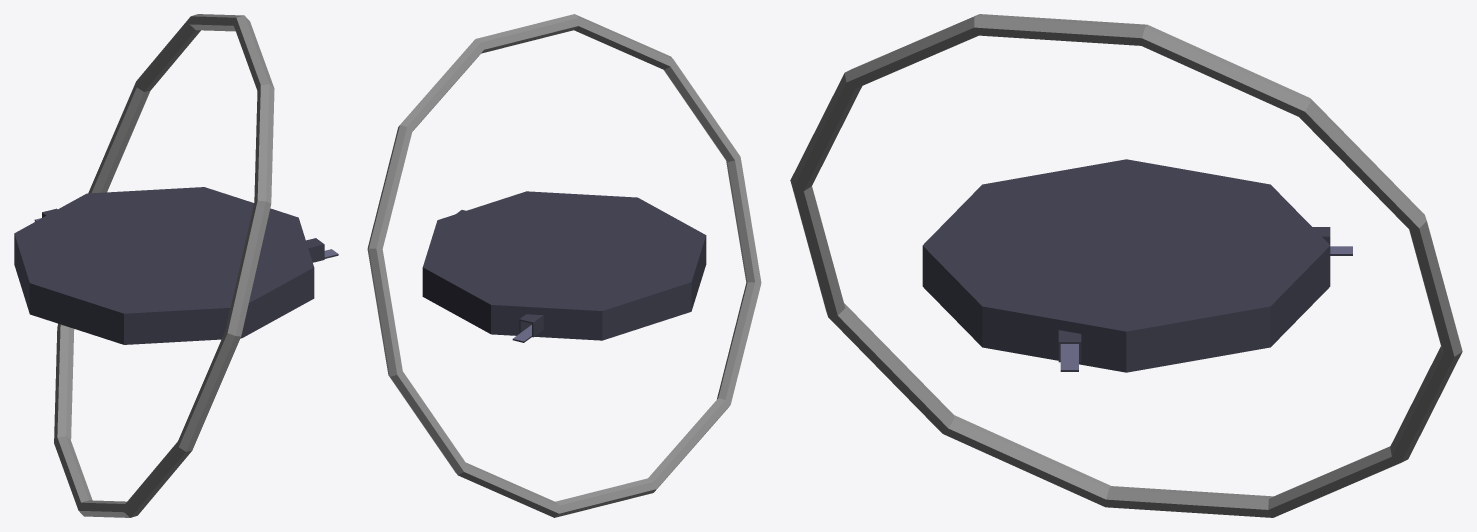
Rendered from SpaceStationV1_MergeV2.fbx.
3 renders of one model, left to right at view 1: azimuth 30°, elevation 25°; view 2: azimuth 150°, elevation 25°; view 3: azimuth 270°, elevation 25°, orthographic. The views are drawn at different scales.
Visible parts, largest first — view 1: Base, Circle, Inside; view 2: Base, Circle, Inside; view 3: Base, Circle, Inside.
Part boxes in pixels (box(x1,y1,x2,y2)): Base: box(14, 187, 314, 344); Circle: box(54, 14, 274, 517); Inside: box(34, 208, 338, 262); Base: box(422, 191, 706, 340); Circle: box(367, 14, 761, 517); Inside: box(456, 210, 543, 342); Base: box(922, 159, 1330, 372); Circle: box(790, 14, 1462, 517); Inside: box(1058, 227, 1352, 371).
Bounding box in the file's own units: 3800 × 5733 × 5934.
3 materials, 3 textured.
